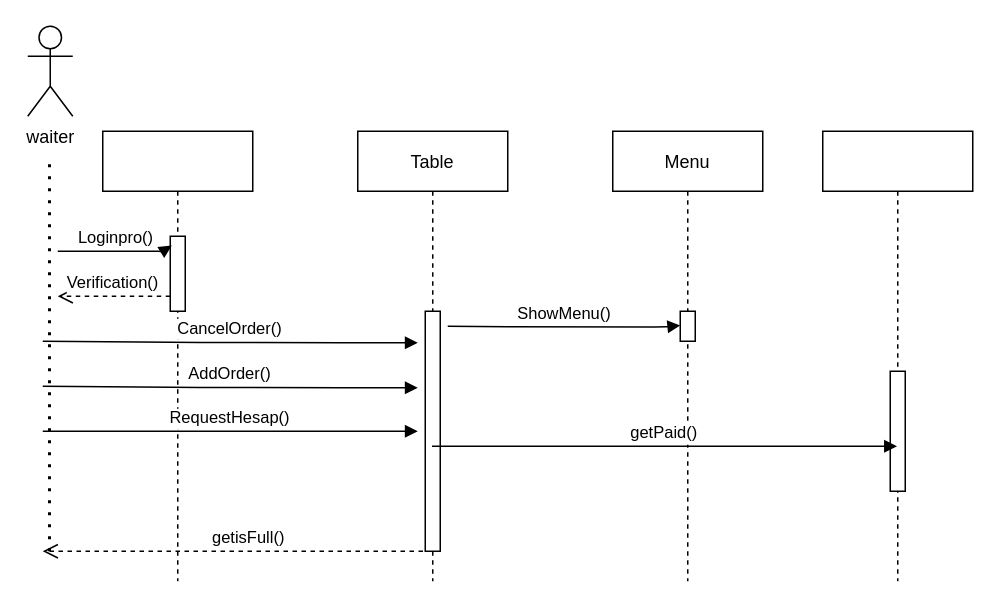
Some shapes in this 999 by 608 pixel diagram are drawn without their labels. Here are the shapes that lost their labels. From the top down, the box of each, then its label:
(101, 130, 253, 581): Login
(821, 130, 973, 581): Date
